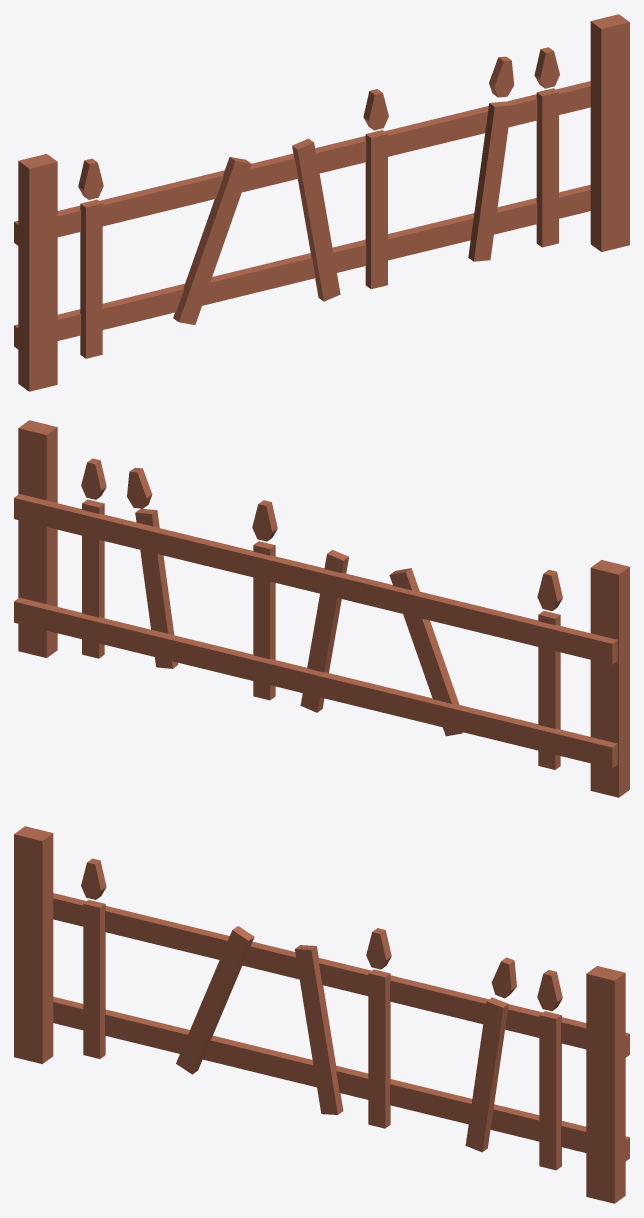
The model's file is fence_damaged.fbx.
3 renders of one model, top to bottom at view 1: azimuth 30°, elevation 25°; view 2: azimuth 150°, elevation 25°; view 3: azimuth 330°, elevation 25°, orthographic.
Parts seen in each view (by area): view 1: Plane.005, Plane.008, Plane.009, Plane.011, Plane.016, Plane.013, Plane.006, Plane.017, Plane.014, Plane.010, Plane.025, Plane.022 (+1 smaller); view 2: Plane.009, Plane.008, Plane.005, Plane.011, Plane.013, Plane.016, Plane.006, Plane.014, Plane.017, Plane.010, Plane.022, Plane.025 (+1 smaller); view 3: Plane.005, Plane.008, Plane.009, Plane.013, Plane.011, Plane.014, Plane.017, Plane.006, Plane.016, Plane.022, Plane.025, Plane.007 (+1 smaller).
Boxes of the visible parts, x1,y1,x2,y2 form: Plane.005: (18, 14, 629, 391); Plane.008: (14, 81, 590, 245); Plane.009: (14, 184, 590, 349); Plane.011: (173, 157, 251, 324); Plane.016: (468, 101, 511, 261); Plane.013: (292, 138, 340, 301); Plane.006: (80, 199, 102, 358); Plane.017: (536, 88, 558, 247); Plane.014: (365, 130, 387, 289); Plane.010: (489, 56, 514, 97); Plane.025: (534, 47, 559, 88); Plane.022: (363, 89, 388, 130); Plane.009: (14, 597, 617, 768); Plane.008: (14, 494, 617, 664); Plane.005: (18, 420, 629, 797); Plane.011: (389, 568, 463, 736); Plane.013: (300, 550, 348, 712); Plane.016: (135, 508, 178, 668); Plane.006: (538, 611, 560, 769); Plane.014: (253, 541, 275, 700); Plane.017: (82, 499, 104, 658); Plane.010: (127, 467, 152, 508); Plane.022: (252, 500, 277, 541); Plane.025: (81, 458, 106, 499); Plane.005: (14, 826, 625, 1203); Plane.008: (53, 893, 629, 1057); Plane.009: (53, 996, 629, 1161); Plane.013: (295, 945, 343, 1114); Plane.011: (176, 926, 254, 1074); Plane.014: (368, 969, 390, 1128); Plane.017: (539, 1011, 561, 1170); Plane.006: (83, 900, 105, 1058); Plane.016: (465, 997, 508, 1152); Plane.022: (366, 928, 391, 969); Plane.025: (537, 970, 562, 1011); Plane.007: (81, 858, 106, 899).
Size of the model in its own units: 316 by 112 by 15.07.
